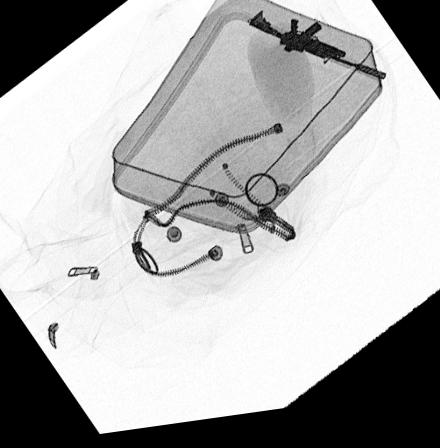Gun: (248, 16, 386, 90)
